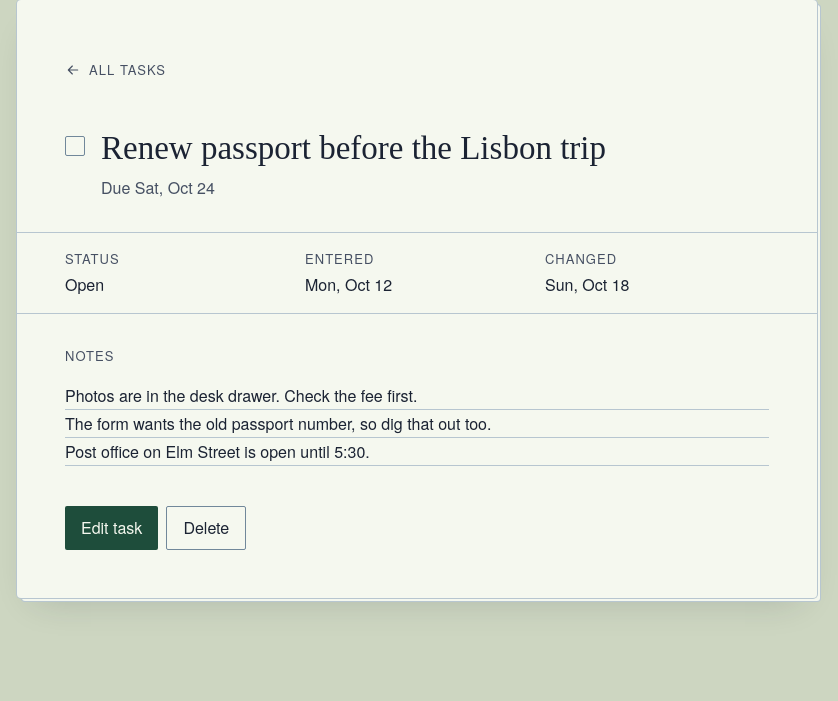
Scenario: TaskDetailView › goes back to reading without a request when nothing changed
The image size is (838, 701).
Click the button "Edit task" at (112, 528), box [65, 506, 158, 550]
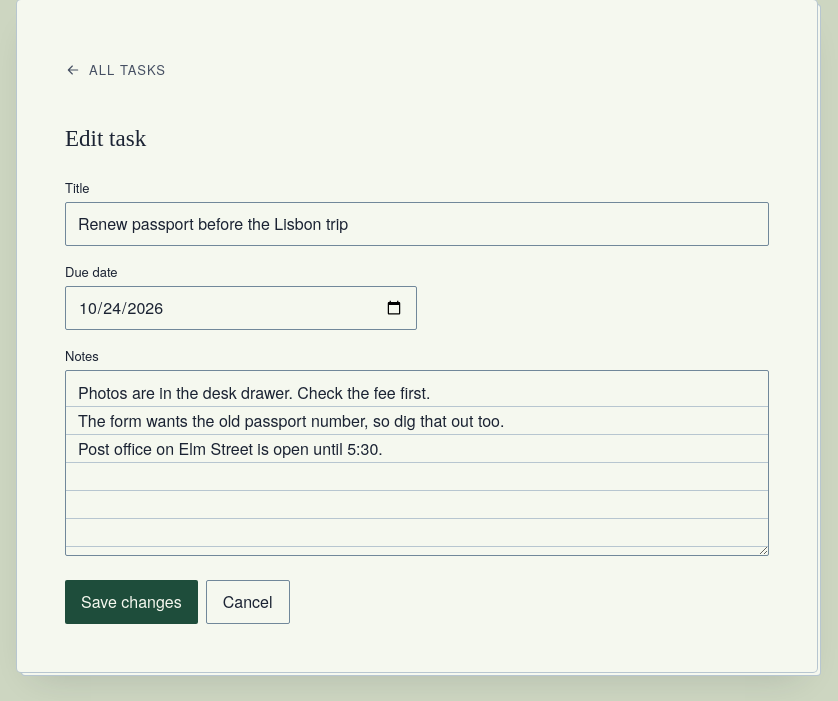
Click the button "Save changes" at (131, 602), box [65, 580, 198, 624]
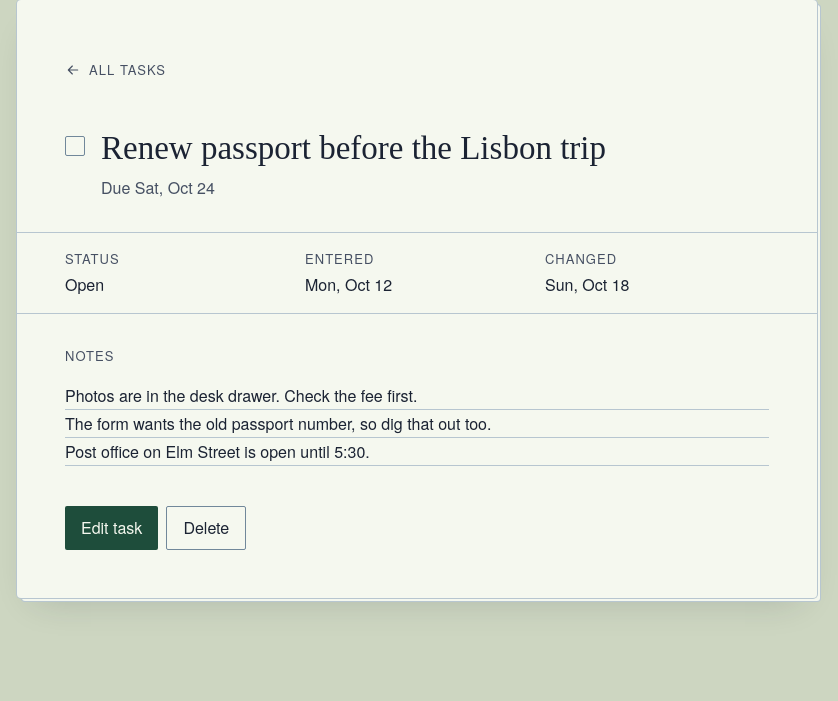
Expected: the label "Title" is gone
